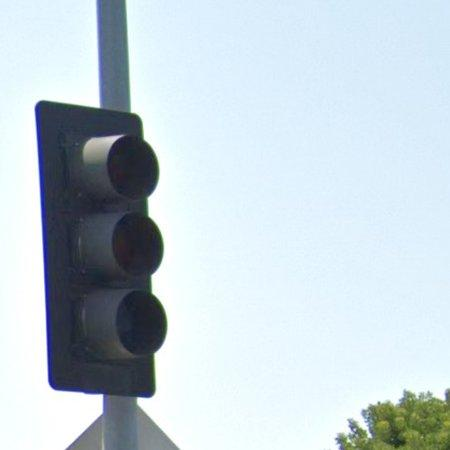traffic lights: (35, 101, 167, 397)
